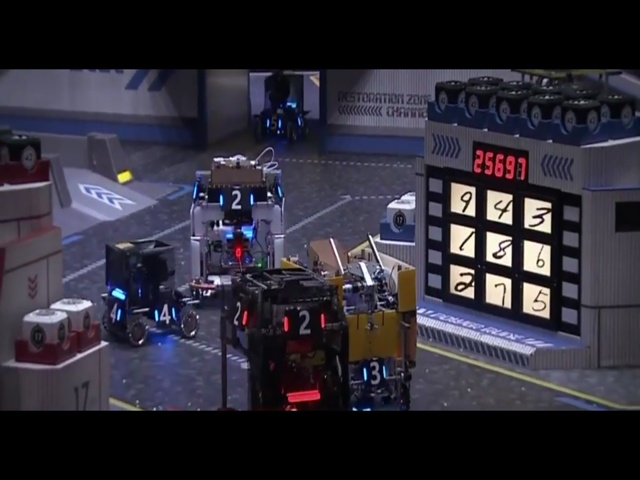bluePlate: (220, 186, 253, 215), (360, 358, 389, 387), (151, 299, 177, 327), (106, 301, 123, 326), (265, 113, 282, 132)
redPlate: (281, 307, 327, 340), (228, 296, 249, 335)
